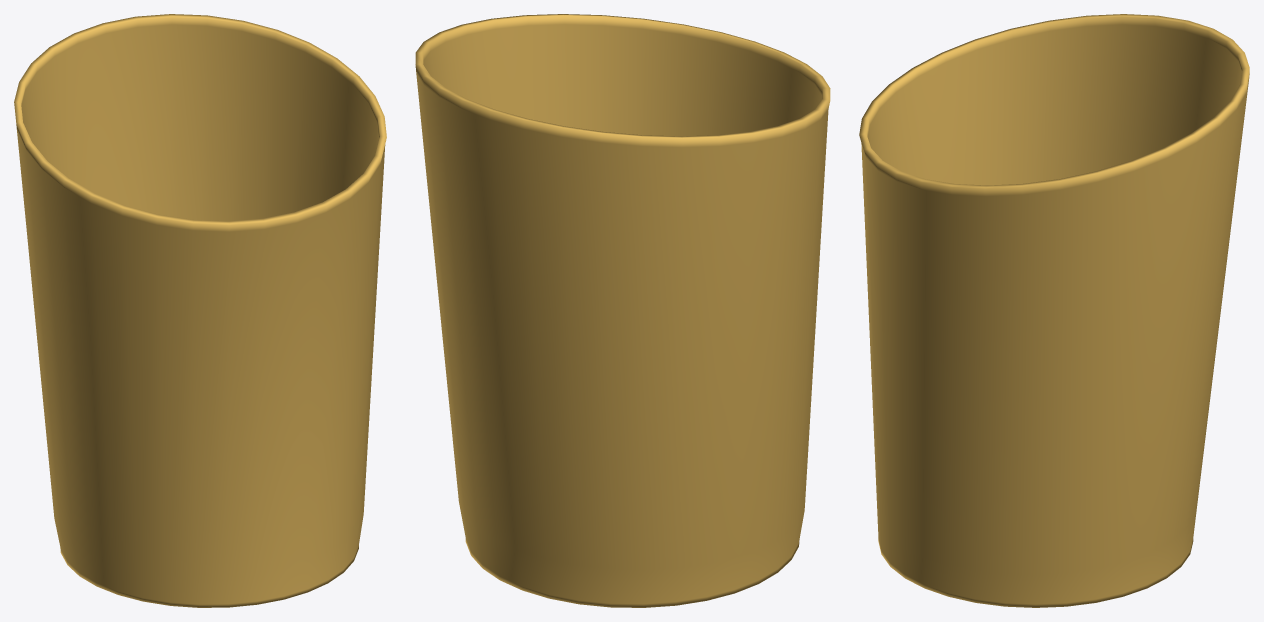
File: Bin.glb
3 renders of one model, left to right at view 1: azimuth 30°, elevation 25°; view 2: azimuth 150°, elevation 25°; view 3: azimuth 270°, elevation 25°, orthographic. The views are drawn at different scales.
Parts seen in each view (by area): view 1: Circle; view 2: Circle; view 3: Circle.
Part boxes in pixels (x1,y1,x2,y2): Circle: (14, 14, 386, 607); Circle: (415, 14, 830, 607); Circle: (859, 14, 1249, 607).
Size of the model in its own units: 0.4858 by 0.6437 by 0.4837.
